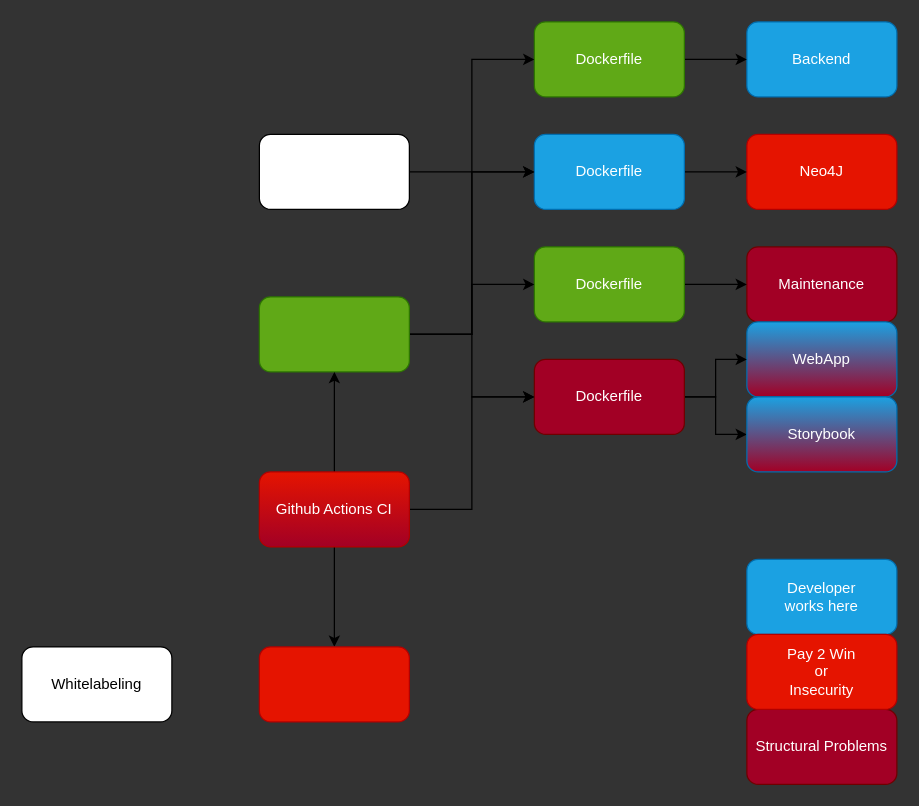
This 919x806 diagram has some shape labels left out. The shapes that lost their labels are listed below. From the top down, each one's centre as x and y in pixels, then its label:
(x=333, y=171): Kubernetes
(x=333, y=334): docker-compose
(x=333, y=684): Dockerhub
